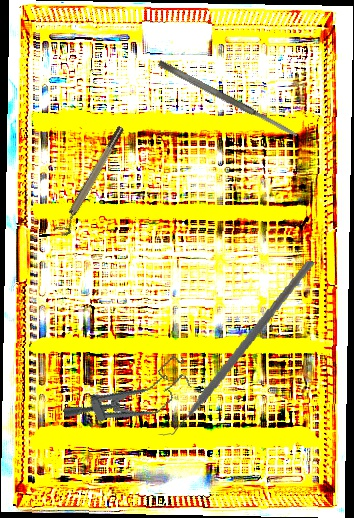Chopper: (152, 244, 315, 452)
Fixation Ring: (53, 124, 131, 239)
Spatula Surgical: (157, 58, 299, 141)
Speculum: (58, 353, 199, 444)
